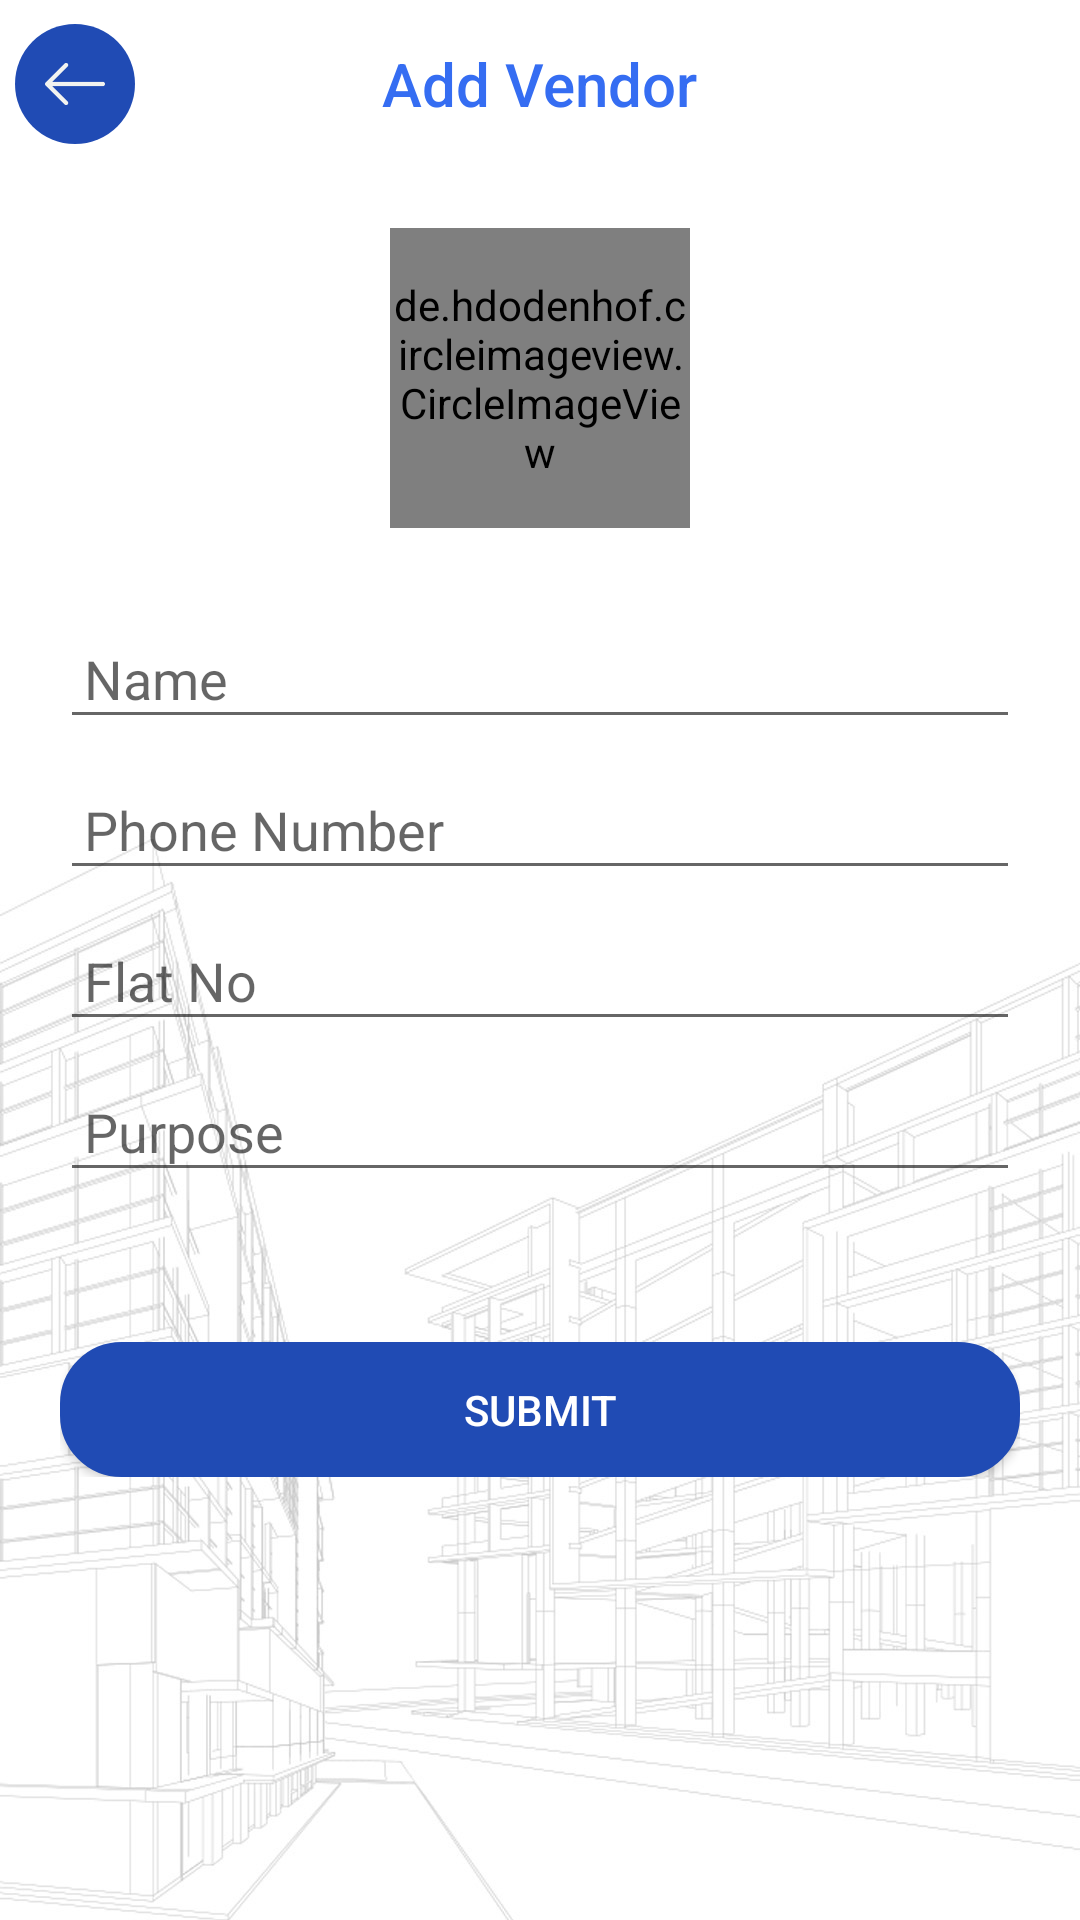

Where to tap for icons on this 1080px x 1920px app screen, as [x,y]:
backarrow: [75,84]
